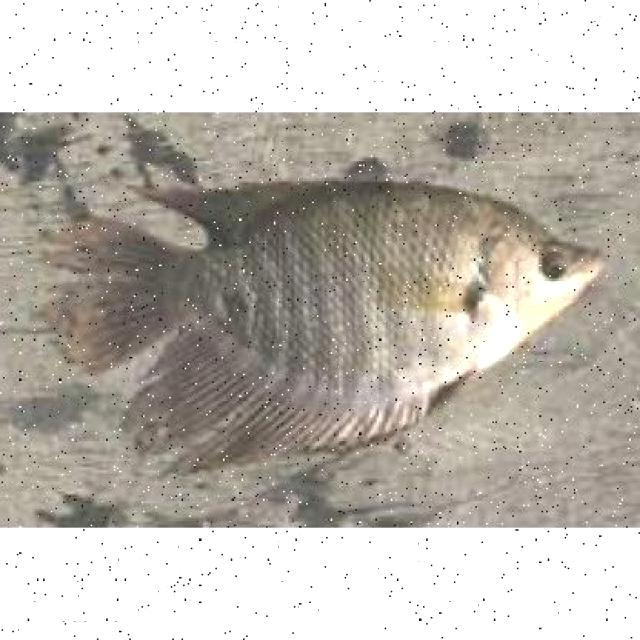gurame: (58, 180, 610, 463)
